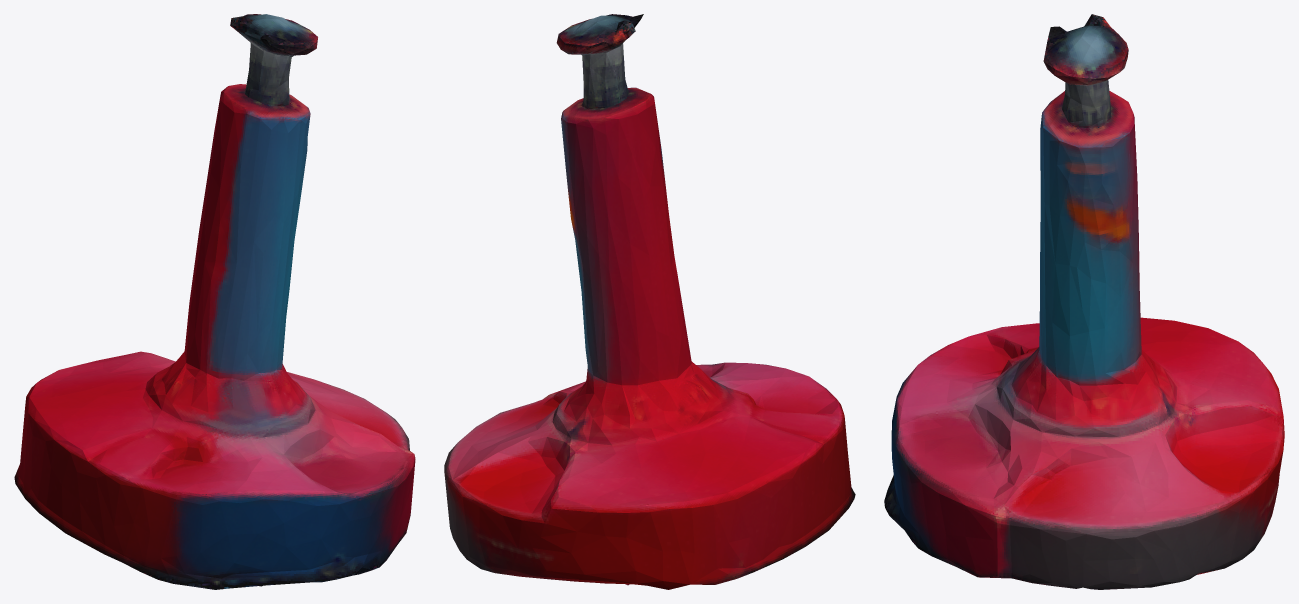
File: kırmızı_duba58.glb
The picture shows the model from 3 angles, left to right: view 1: azimuth 30°, elevation 25°; view 2: azimuth 150°, elevation 25°; view 3: azimuth 270°, elevation 25°; orthographic projection.
Parts seen in each view (by area): view 1: world; view 2: world; view 3: world.
Boxes of the visible parts, x1,y1,x2,y2 form: world: (14,14,415,589); world: (444,14,855,589); world: (884,14,1284,589).
Bounding box in the file's own units: 0.2693 × 0.3787 × 0.2704.
Materials: 1 (1 with a texture image).
